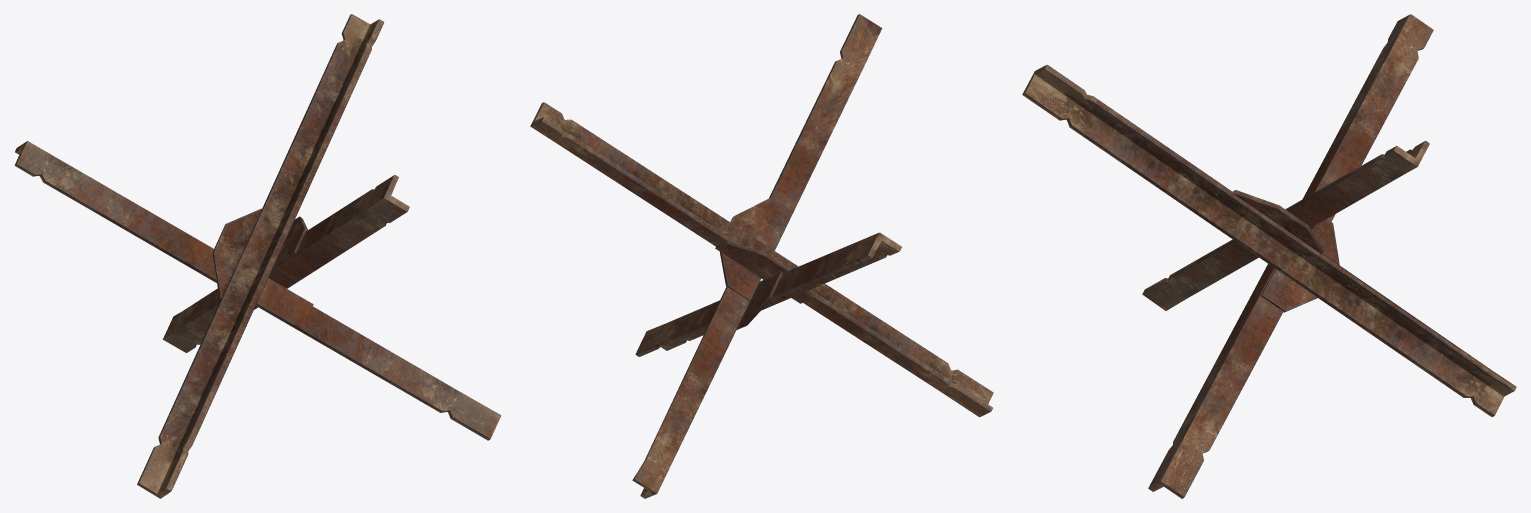
File: SM_Antivehicle.fbx
3 renders of one model, left to right at view 1: azimuth 30°, elevation 25°; view 2: azimuth 150°, elevation 25°; view 3: azimuth 270°, elevation 25°, orthographic. The views are drawn at different scales.
Visible parts, largest first — view 1: SM_Antivehicle_LOD0; view 2: SM_Antivehicle_LOD0; view 3: SM_Antivehicle_LOD0.
Part boxes in pixels (<box>): SM_Antivehicle_LOD0: <box>14,14,501,498</box>; SM_Antivehicle_LOD0: <box>530,14,993,498</box>; SM_Antivehicle_LOD0: <box>1022,14,1516,498</box>.
Bounding box in the file's own units: 204 × 225 × 177.
1 material, 1 textured.
